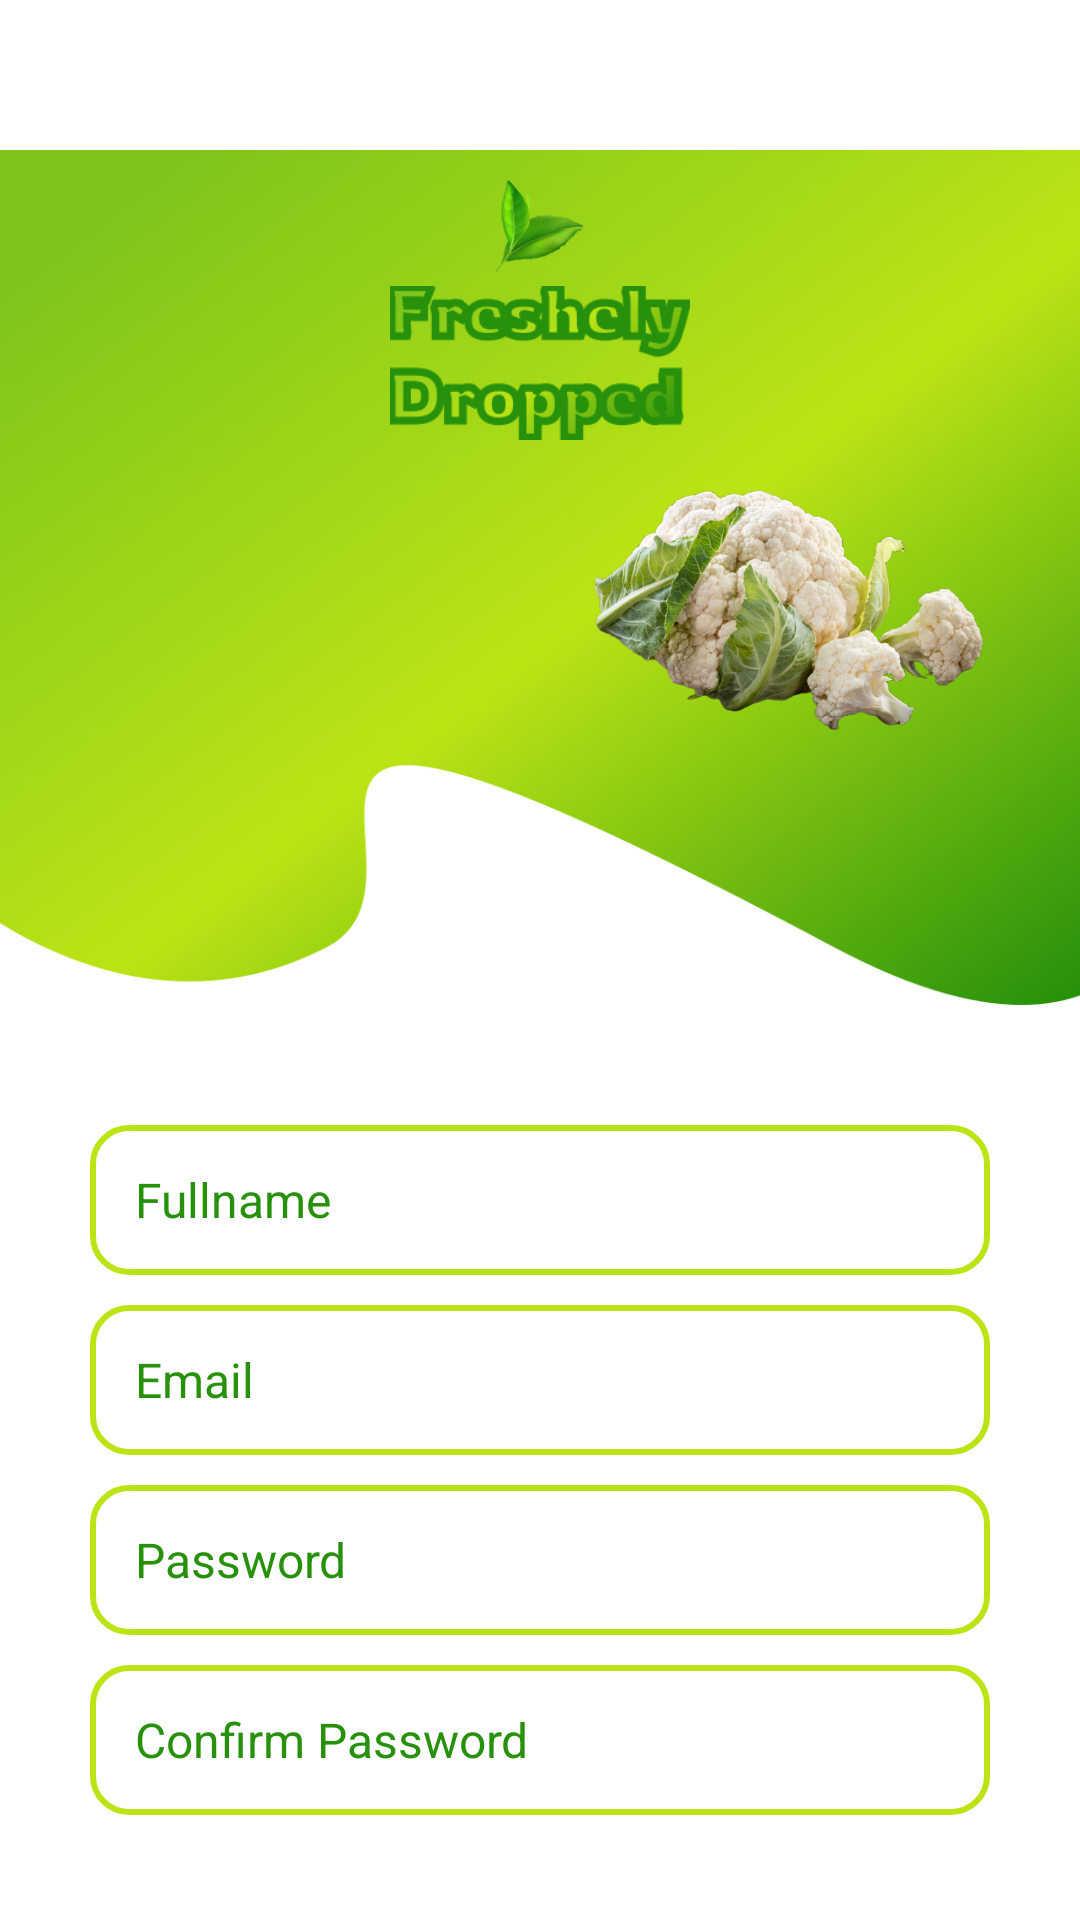

Where to tap for icons on this 1080px×1920px app screen, as point (x, y):
home leaf: point (539, 226)
